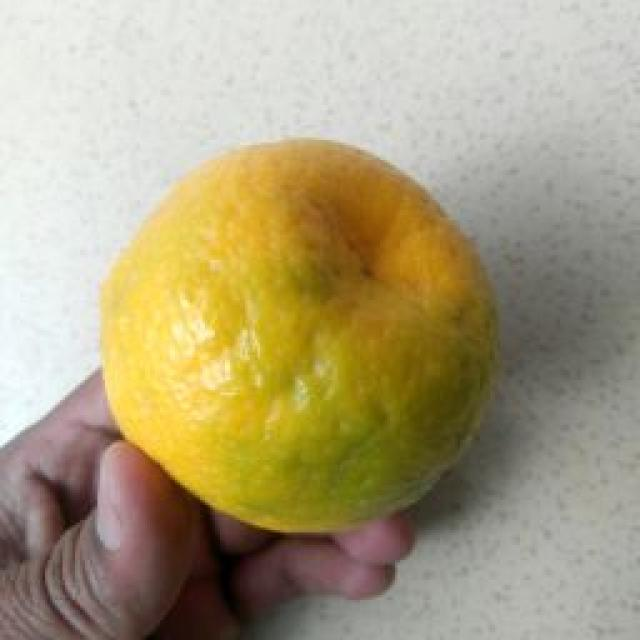Good_Orange: (100, 140, 502, 540)
